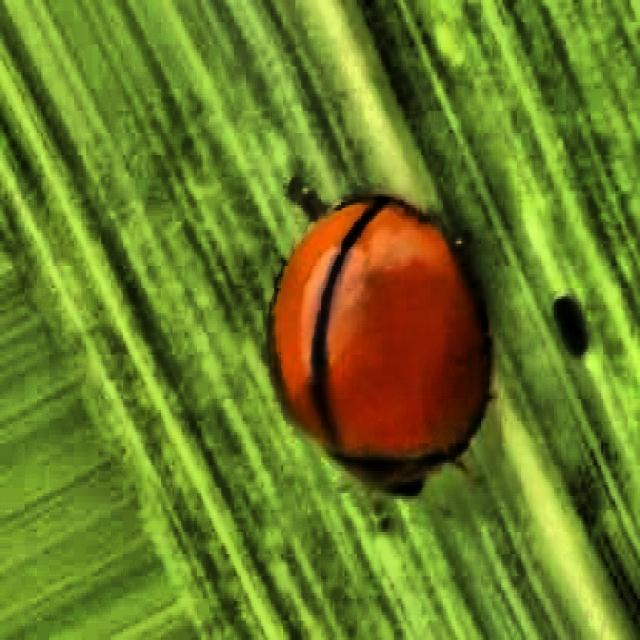Ladybug: (216, 114, 547, 538)
